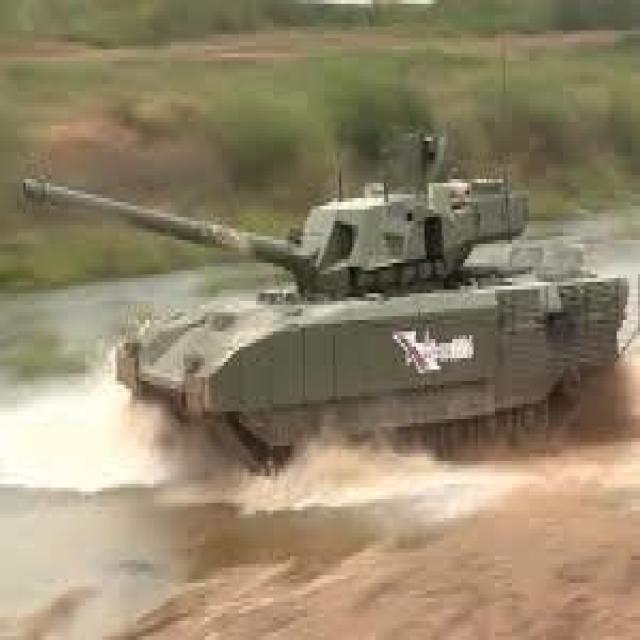Tanks: (59, 173, 628, 459)
